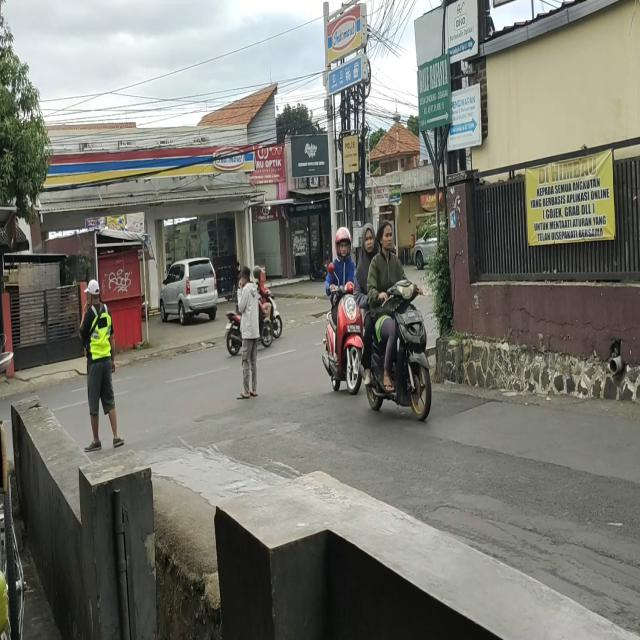helmet: (334, 223, 354, 260)
no-helmet: (359, 222, 376, 257), (377, 220, 395, 251)
